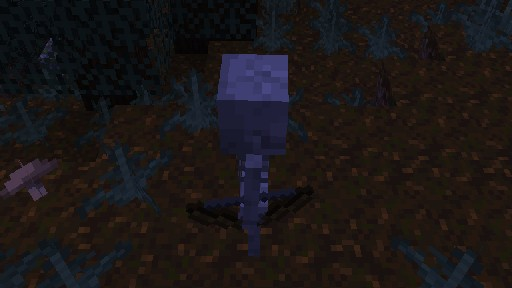skeleton: (185, 53, 313, 256)
